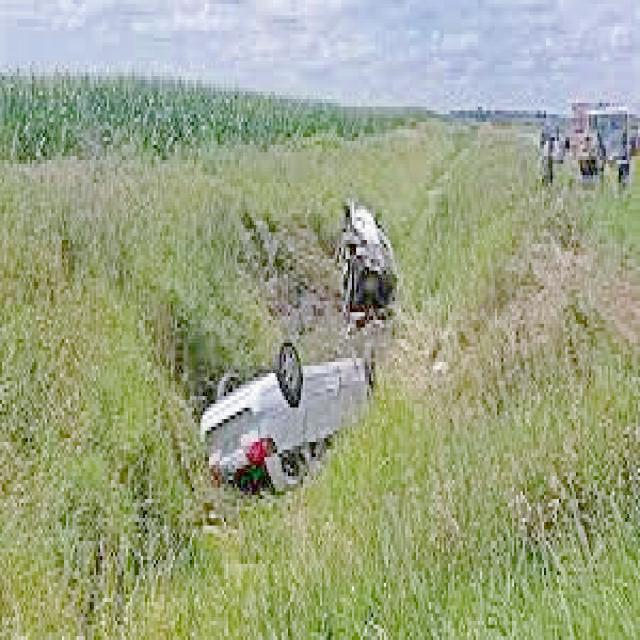Car: (196, 331, 385, 499), (330, 197, 408, 317)
Major Accident: (190, 200, 417, 493)
